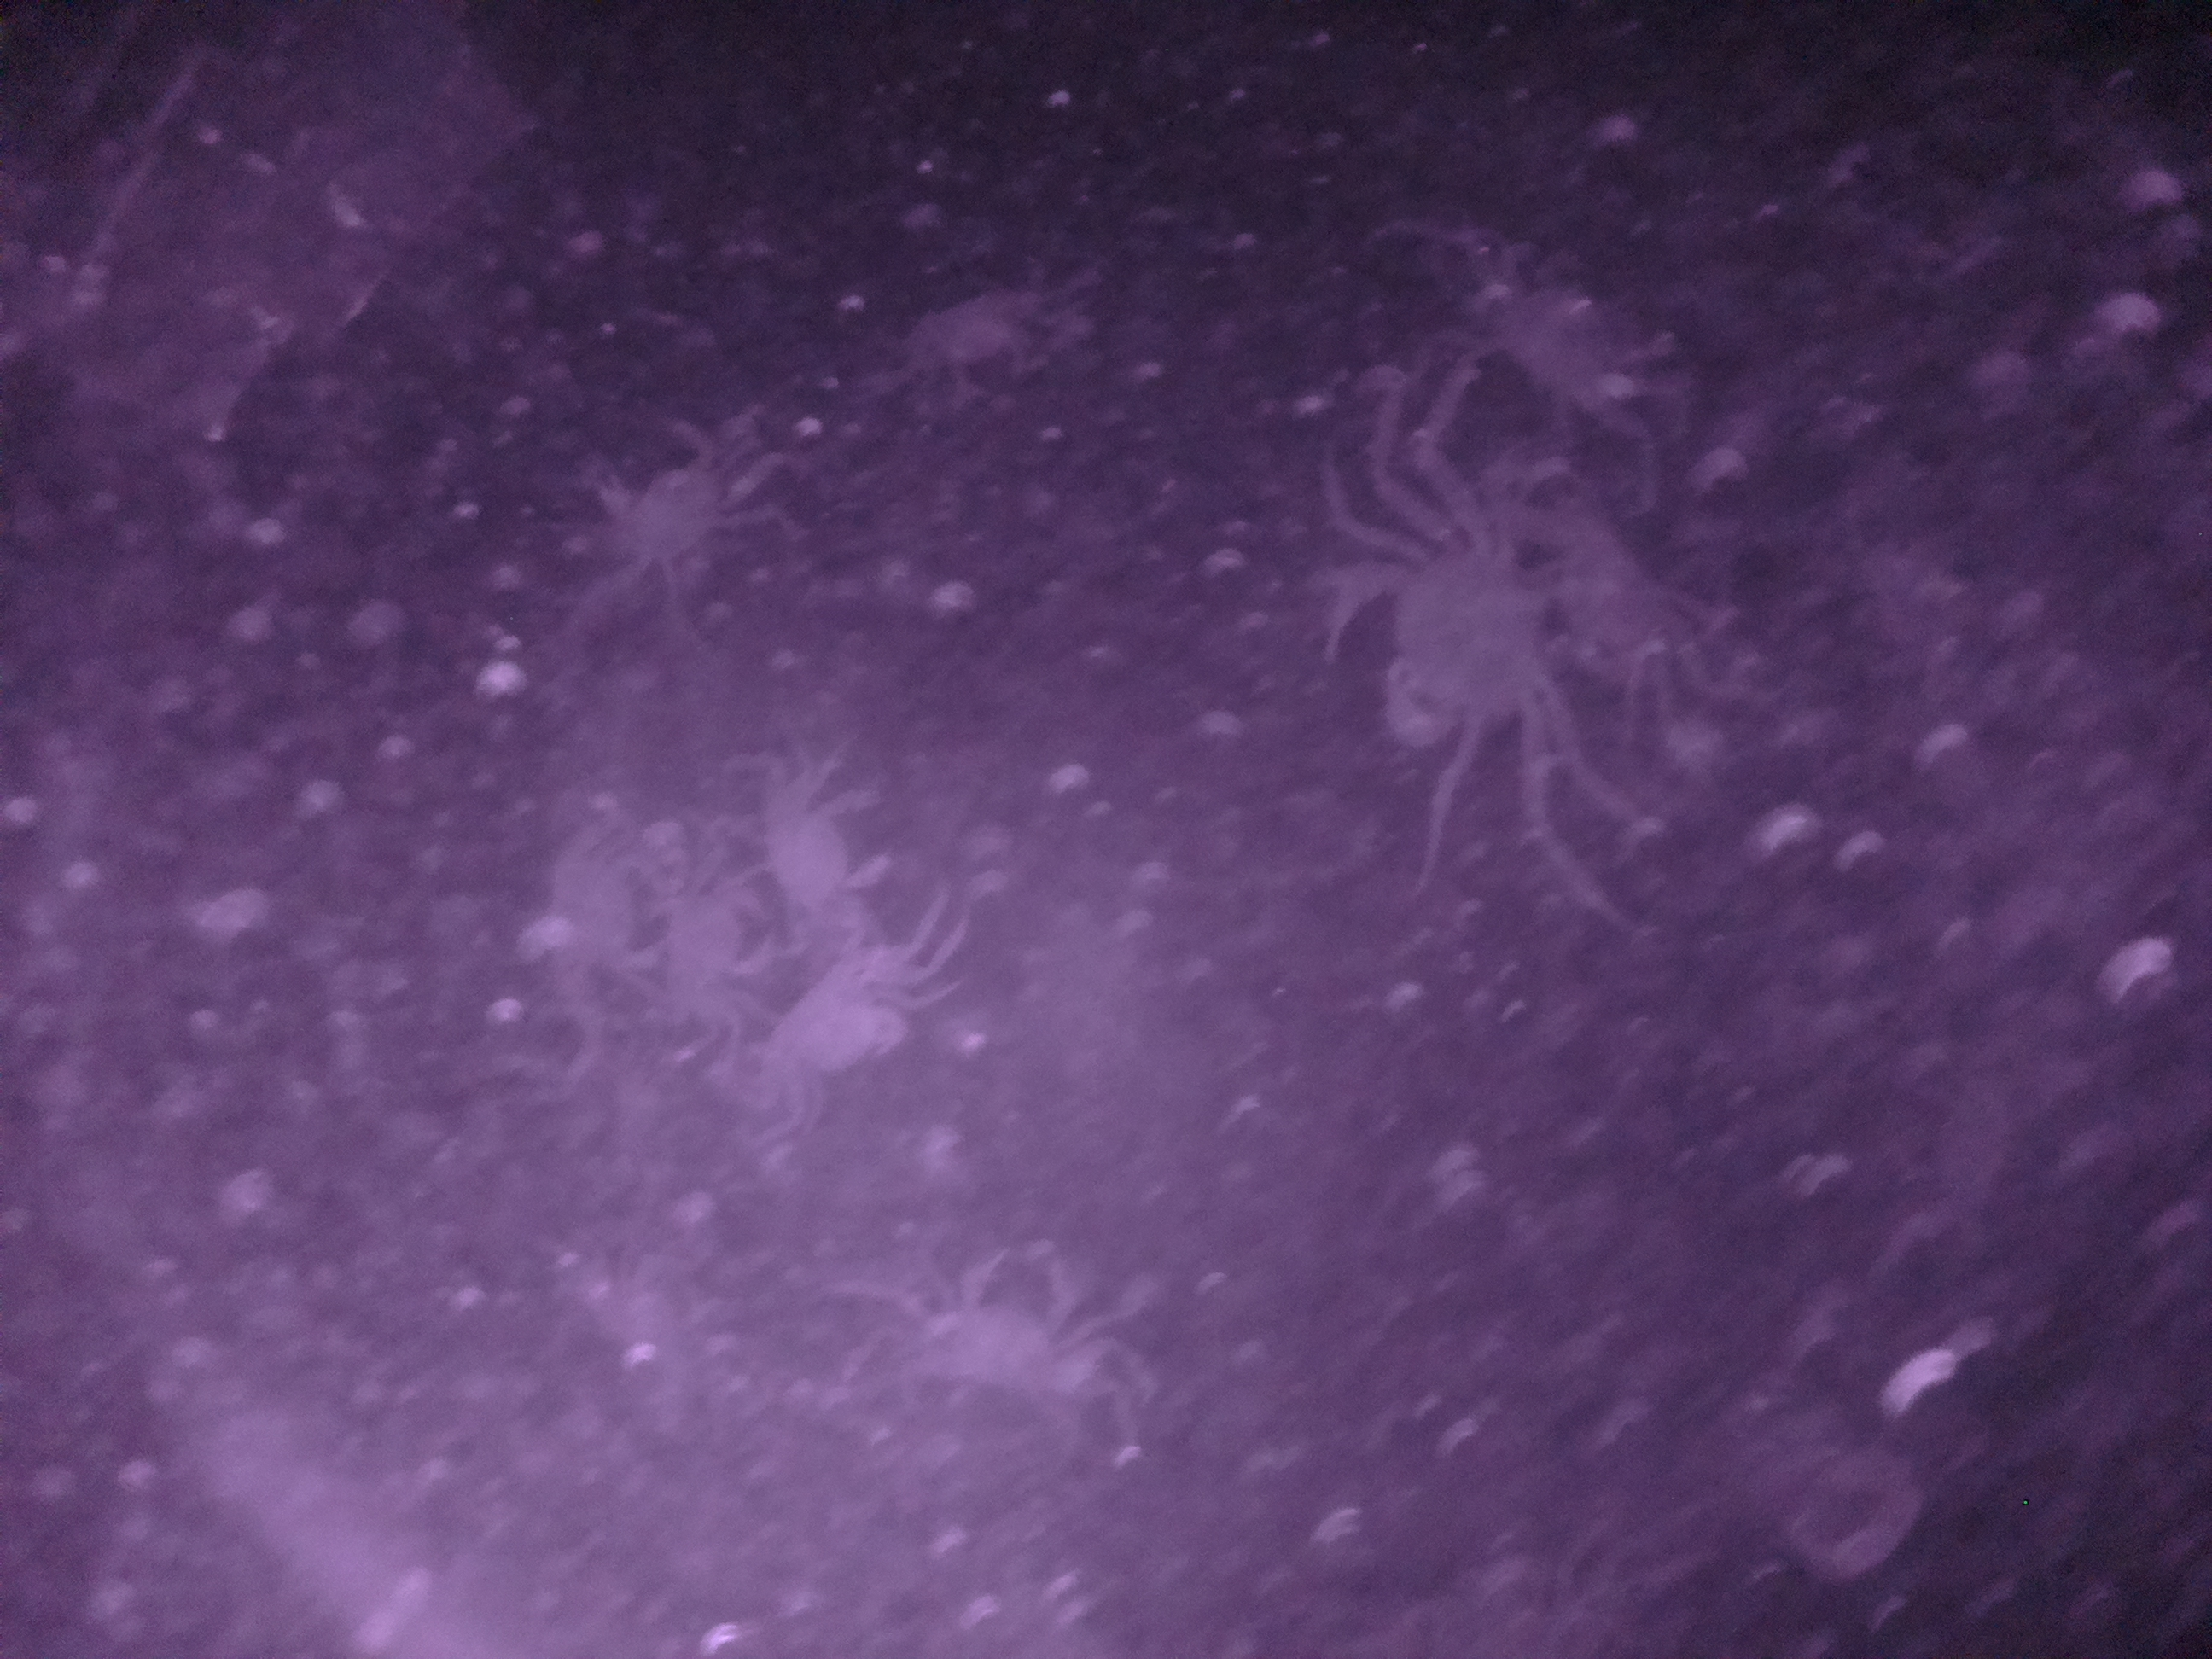Crab: (1296, 504, 1576, 767)
